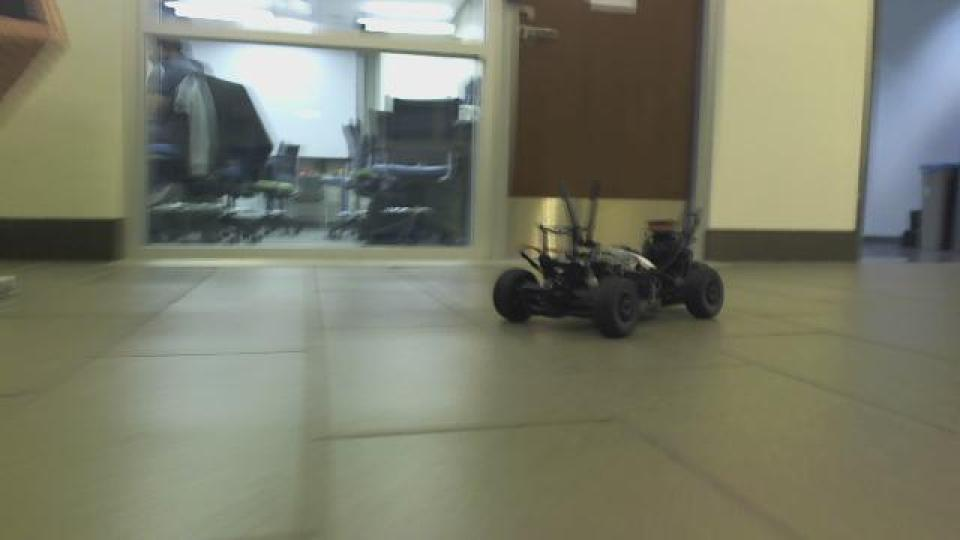car: (489, 177, 727, 341)
